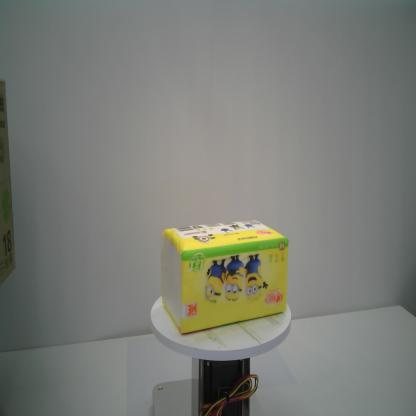Tissue: (159, 217, 291, 336)
